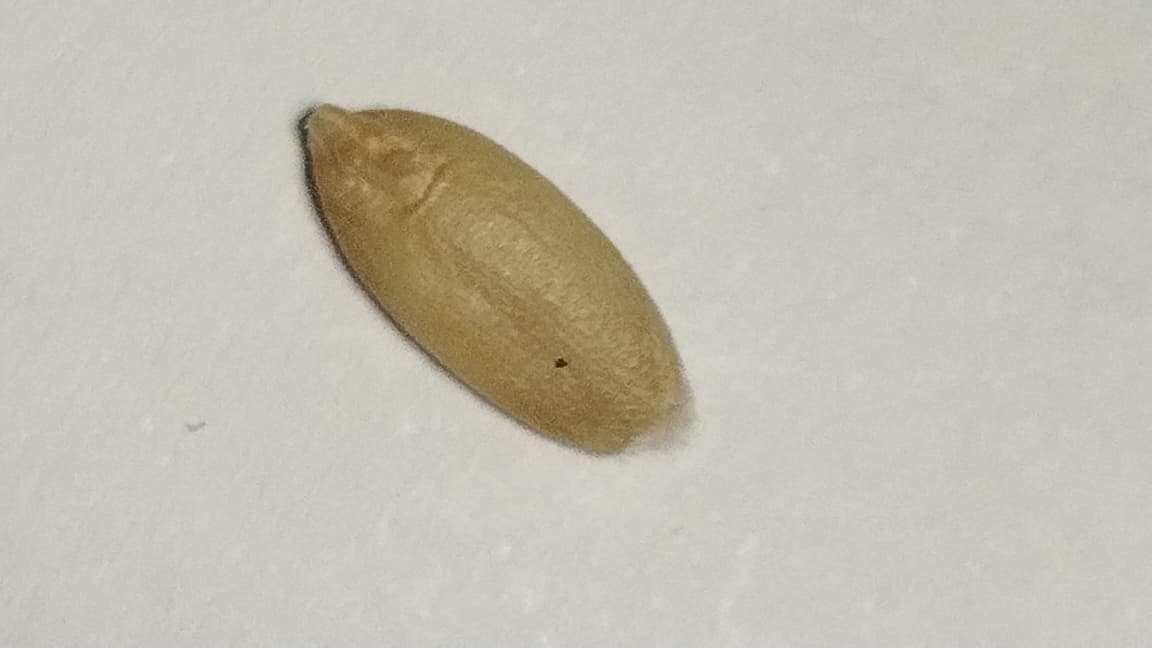healthy: (300, 104, 688, 454)
